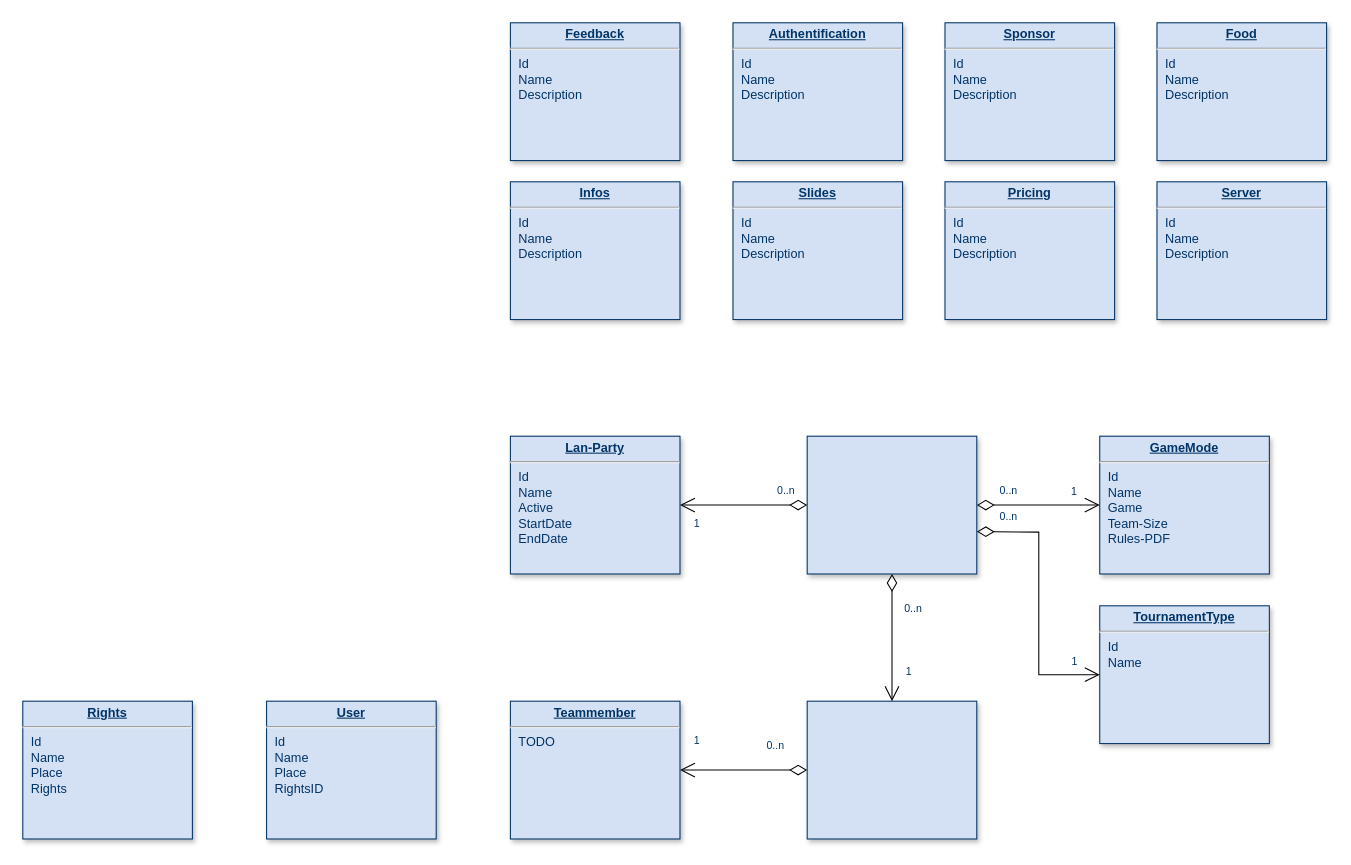
Some shapes in this 1351 by 865 pixel diagram are drawn without their labels. The shapes that lost their labels are listed below. From the top down, each one's centre as x and y in pixels, then its label:
point 892,506: Tournament Id Name Lan-PartyID GameModeID TeamsID TournamentTypeID
point 892,771: Team Id Name Pin Tournament TeammembersID
